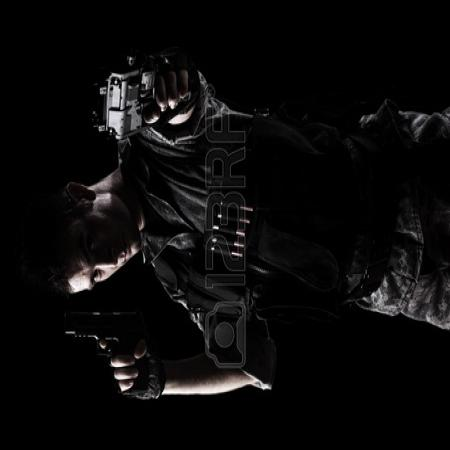Pistol: (42, 291, 150, 408), (90, 38, 177, 146)
